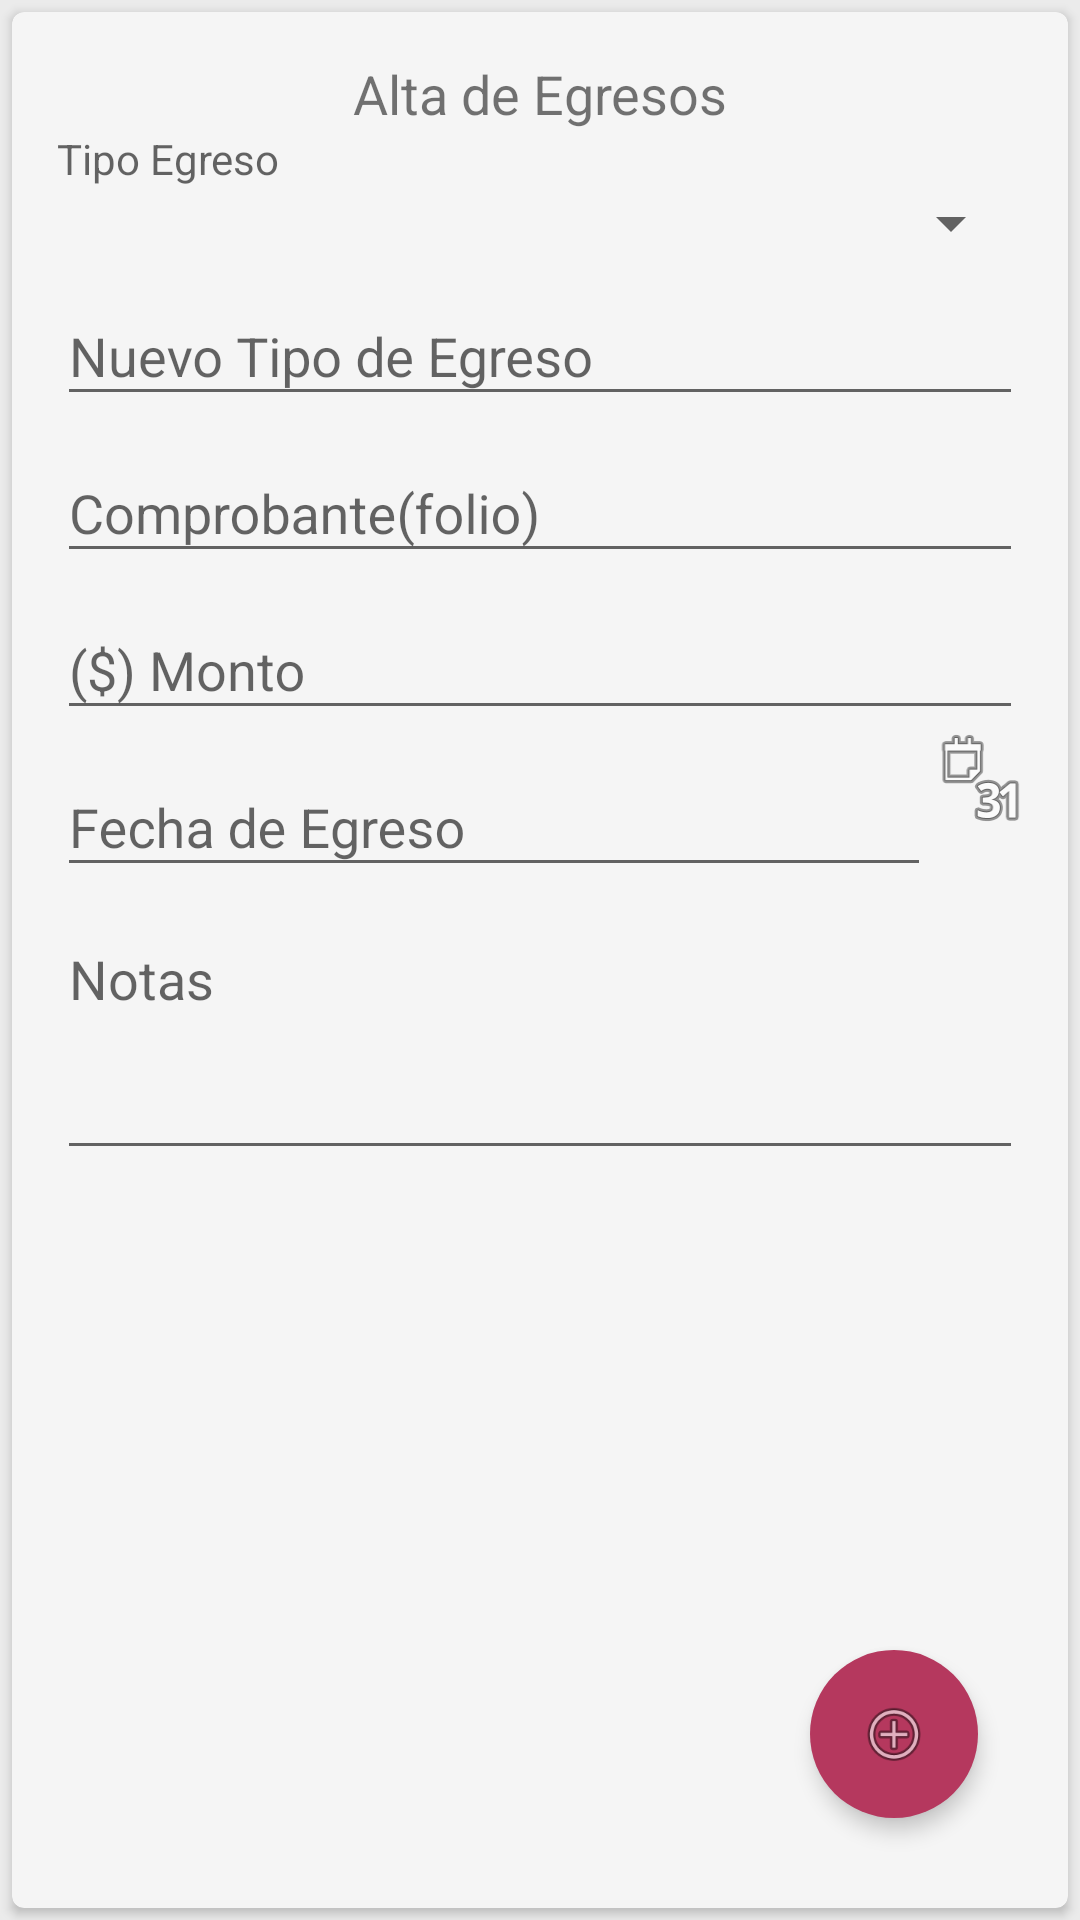

Point at icon controls on the screen. Image size 1080 x 1920, points as (x=x, y=y).
add: (x=894, y=1734)
month: (x=980, y=778)
